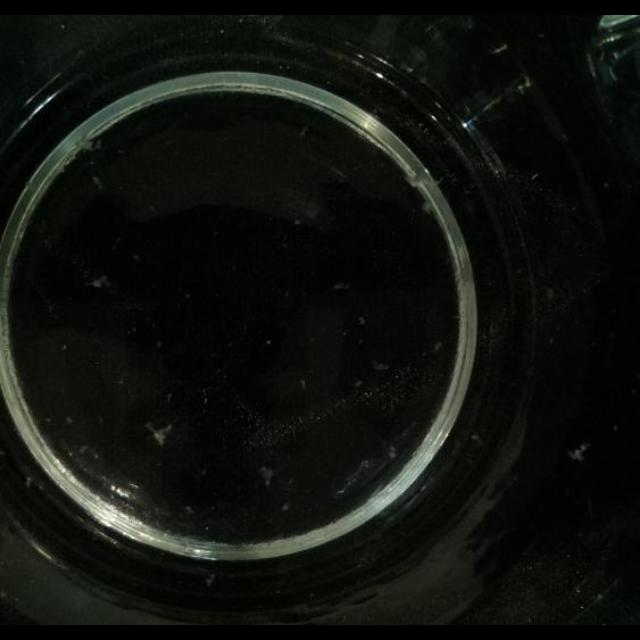Fibre: (147, 419, 176, 445), (258, 465, 274, 487), (90, 275, 110, 289)
microbeads: (569, 443, 589, 462)
